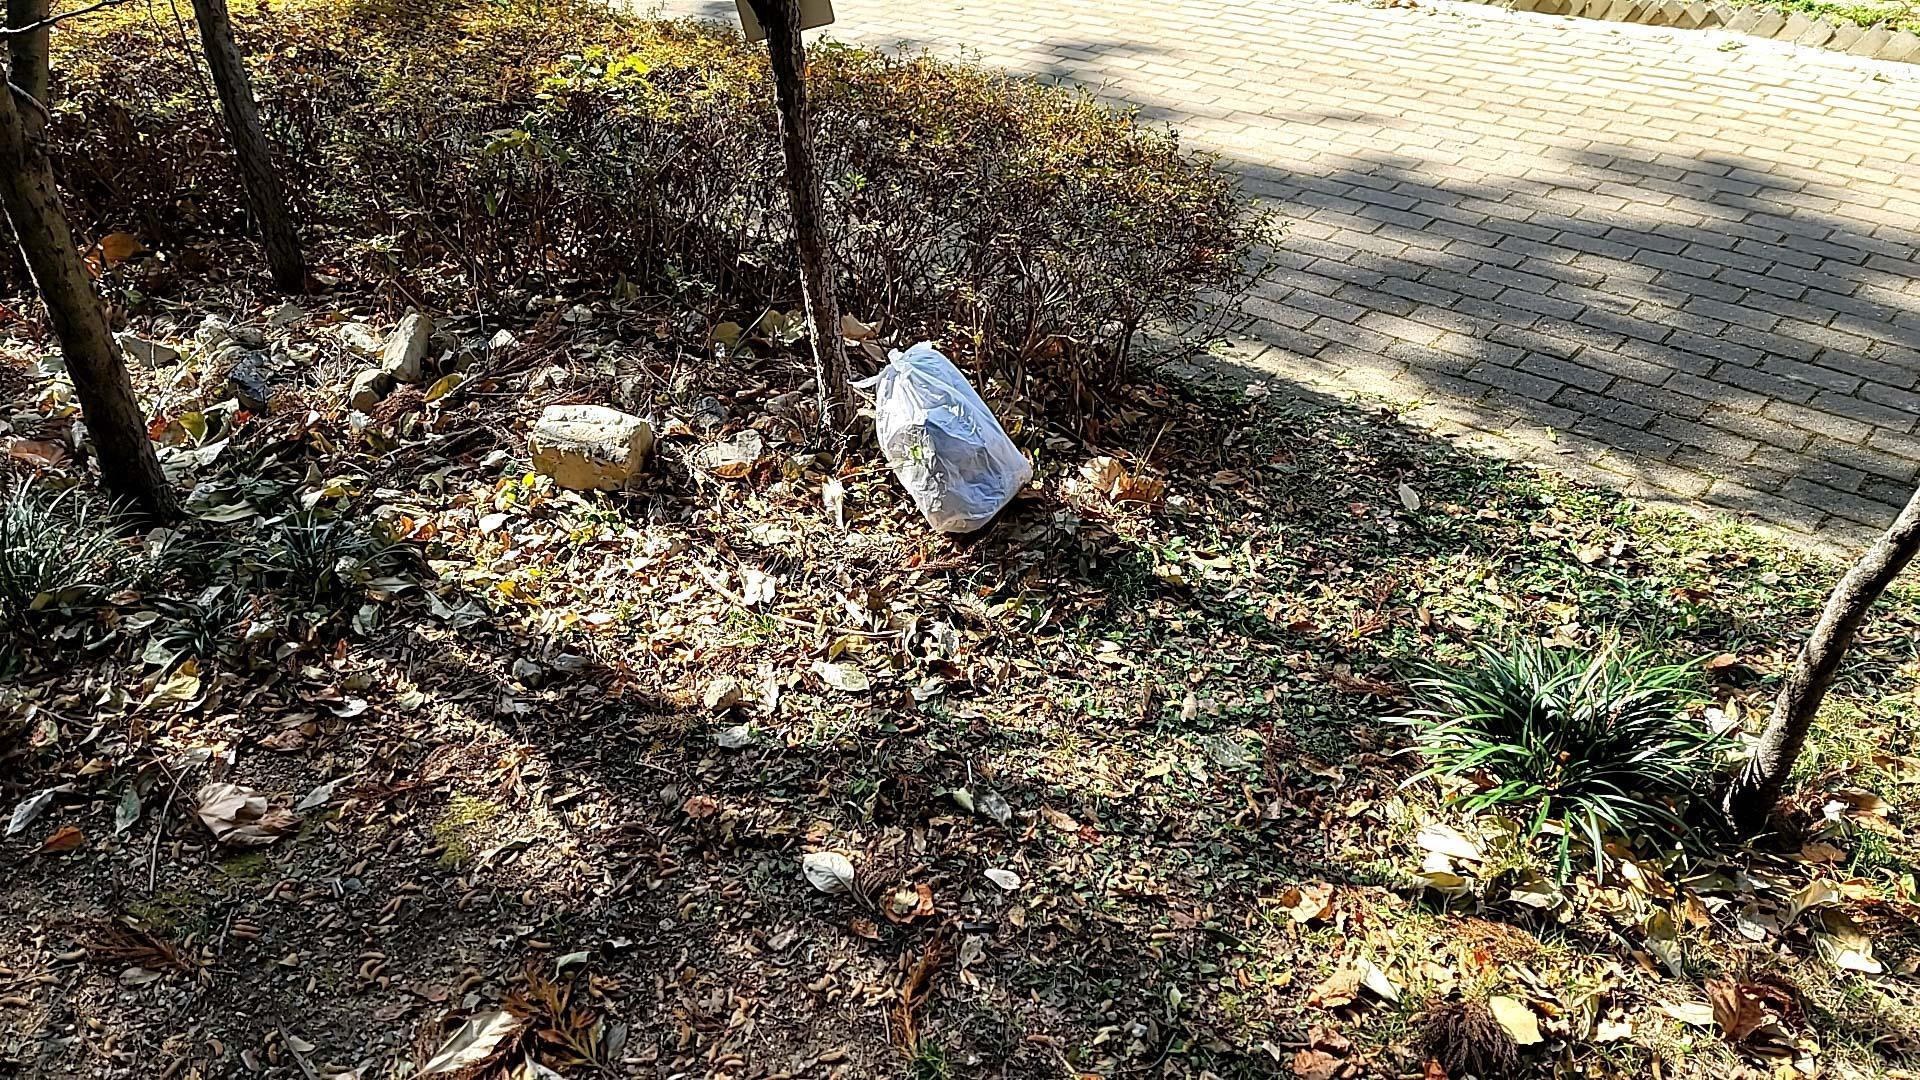white_bag: (851, 334, 1042, 546)
